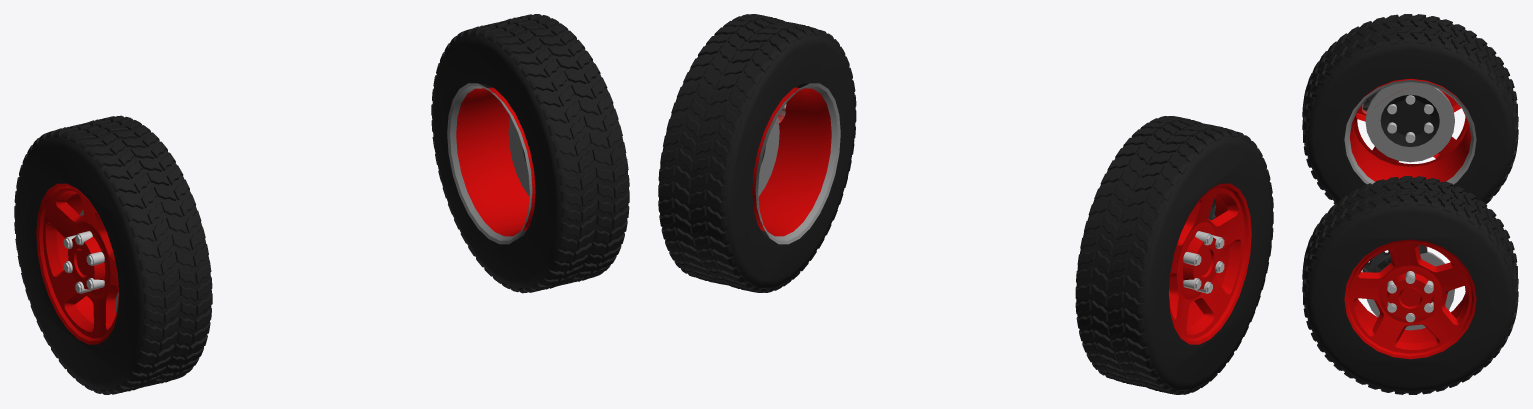
Rendered from Llantas_Tras.obj.
The picture shows the model from 3 angles, left to right: view 1: azimuth 30°, elevation 25°; view 2: azimuth 150°, elevation 25°; view 3: azimuth 270°, elevation 25°; orthographic projection. The views are drawn at different scales.
Parts seen in each view (by area): view 1: Mesh599 Gummi1_1_2 Rad1_1_2 Component_54_1 Component_64_1 Model, Mesh296 Gummi1_1_1 Rad1_1_1 Component_54_1 Component_64_1 Model, Mesh298 Group_85_1 Rad1_1_1 Component_54_1 Component_64_1 Model, Mesh600 Component_137_2 Group_85_2 Rad1_1_2 Component_54_1 Compo, Mesh601 Group_85_2 Rad1_1_2 Component_54_1 Component_64_1 Model, Mesh597 Group_52_2 Component_53_2 Group3 Gummi1_1_2 Rad1_1_2 Com, Mesh303 Group2 disk_brake_1_1 disk_brake_3_1 Rad1_1_1 Component_; view 2: Mesh599 Gummi1_1_2 Rad1_1_2 Component_54_1 Component_64_1 Model, Mesh296 Gummi1_1_1 Rad1_1_1 Component_54_1 Component_64_1 Model, Mesh298 Group_85_1 Rad1_1_1 Component_54_1 Component_64_1 Model, Mesh600 Component_137_2 Group_85_2 Rad1_1_2 Component_54_1 Compo, Mesh601 Group_85_2 Rad1_1_2 Component_54_1 Component_64_1 Model, Mesh597 Group_52_2 Component_53_2 Group3 Gummi1_1_2 Rad1_1_2 Com, Mesh303 Group2 disk_brake_1_1 disk_brake_3_1 Rad1_1_1 Component_; view 3: Mesh296 Gummi1_1_1 Rad1_1_1 Component_54_1 Component_64_1 Model, Mesh599 Gummi1_1_2 Rad1_1_2 Component_54_1 Component_64_1 Model, Mesh297 Component_137_1 Group_85_1 Rad1_1_1 Component_54_1 Compo, Mesh606 Group4 disk_brake_1_2 disk_brake_3_2 Rad1_1_2 Component_, Mesh601 Group_85_2 Rad1_1_2 Component_54_1 Component_64_1 Model, Mesh298 Group_85_1 Rad1_1_1 Component_54_1 Component_64_1 Model, Mesh294 Group_52_1 Component_53_1 Group1 Gummi1_1_1 Rad1_1_1 Com, Mesh600 Component_137_2 Group_85_2 Rad1_1_2 Component_54_1 Compo, Mesh303 Group2 disk_brake_1_1 disk_brake_3_1 Rad1_1_1 Component_, Mesh302 caliper_1_1 Group2 disk_brake_1_1 disk_brake_3_1 Rad1_1_.
Part boxes in pixels (x1=…): Mesh599 Gummi1_1_2 Rad1_1_2 Component_54_1 Component_64_1 Model: x1=14, y1=121, x2=211, y2=391; Mesh296 Gummi1_1_1 Rad1_1_1 Component_54_1 Component_64_1 Model: x1=432, y1=19, x2=629, y2=289; Mesh298 Group_85_1 Rad1_1_1 Component_54_1 Component_64_1 Model: x1=447, y1=83, x2=535, y2=244; Mesh600 Component_137_2 Group_85_2 Rad1_1_2 Component_54_1 Compo: x1=43, y1=188, x2=118, y2=338; Mesh601 Group_85_2 Rad1_1_2 Component_54_1 Component_64_1 Model: x1=36, y1=183, x2=119, y2=344; Mesh597 Group_52_2 Component_53_2 Group3 Gummi1_1_2 Rad1_1_2 Com: x1=68, y1=232, x2=105, y2=289; Mesh303 Group2 disk_brake_1_1 disk_brake_3_1 Rad1_1_1 Component_: x1=508, y1=117, x2=529, y2=196; Mesh599 Gummi1_1_2 Rad1_1_2 Component_54_1 Component_64_1 Model: x1=1076, y1=122, x2=1273, y2=391; Mesh296 Gummi1_1_1 Rad1_1_1 Component_54_1 Component_64_1 Model: x1=659, y1=22, x2=855, y2=289; Mesh298 Group_85_1 Rad1_1_1 Component_54_1 Component_64_1 Model: x1=752, y1=83, x2=840, y2=244; Mesh600 Component_137_2 Group_85_2 Rad1_1_2 Component_54_1 Compo: x1=1169, y1=188, x2=1244, y2=338; Mesh601 Group_85_2 Rad1_1_2 Component_54_1 Component_64_1 Model: x1=1168, y1=183, x2=1251, y2=344; Mesh597 Group_52_2 Component_53_2 Group3 Gummi1_1_2 Rad1_1_2 Com: x1=1182, y1=232, x2=1219, y2=289; Mesh303 Group2 disk_brake_1_1 disk_brake_3_1 Rad1_1_1 Component_: x1=758, y1=116, x2=779, y2=196; Mesh296 Gummi1_1_1 Rad1_1_1 Component_54_1 Component_64_1 Model: x1=1304, y1=177, x2=1515, y2=393; Mesh599 Gummi1_1_2 Rad1_1_2 Component_54_1 Component_64_1 Model: x1=1304, y1=15, x2=1515, y2=202; Mesh297 Component_137_1 Group_85_1 Rad1_1_1 Component_54_1 Compo: x1=1349, y1=242, x2=1471, y2=353; Mesh606 Group4 disk_brake_1_2 disk_brake_3_2 Rad1_1_2 Component_: x1=1365, y1=82, x2=1454, y2=162; Mesh601 Group_85_2 Rad1_1_2 Component_54_1 Component_64_1 Model: x1=1344, y1=78, x2=1476, y2=184; Mesh298 Group_85_1 Rad1_1_1 Component_54_1 Component_64_1 Model: x1=1344, y1=239, x2=1476, y2=359; Mesh294 Group_52_1 Component_53_1 Group1 Gummi1_1_1 Rad1_1_1 Com: x1=1386, y1=273, x2=1434, y2=316; Mesh600 Component_137_2 Group_85_2 Rad1_1_2 Component_54_1 Compo: x1=1353, y1=89, x2=1467, y2=166; Mesh303 Group2 disk_brake_1_1 disk_brake_3_1 Rad1_1_1 Component_: x1=1367, y1=251, x2=1454, y2=330; Mesh302 caliper_1_1 Group2 disk_brake_1_1 disk_brake_3_1 Rad1_1_: x1=1362, y1=245, x2=1427, y2=272.
Size of the model in its own units: 69.15 by 33.31 by 33.31.
Materials: 9 (1 with a texture image).
